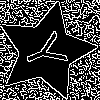Y: (21, 26, 77, 76)
